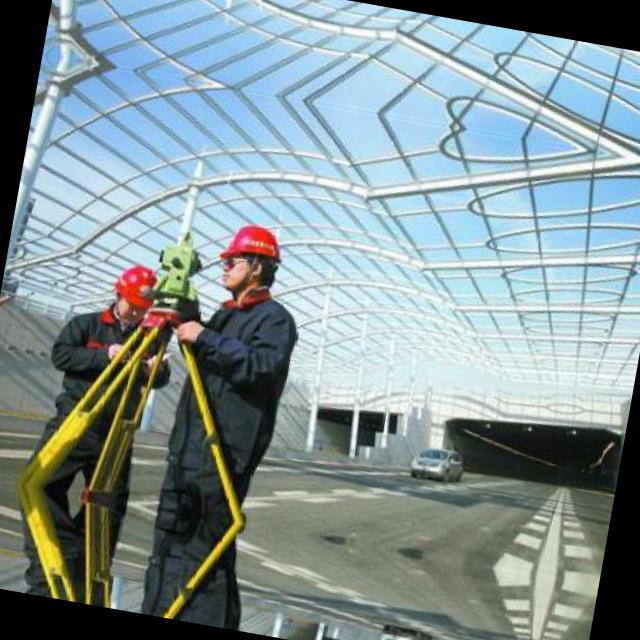helmet: (208, 214, 292, 302), (106, 258, 164, 320)
